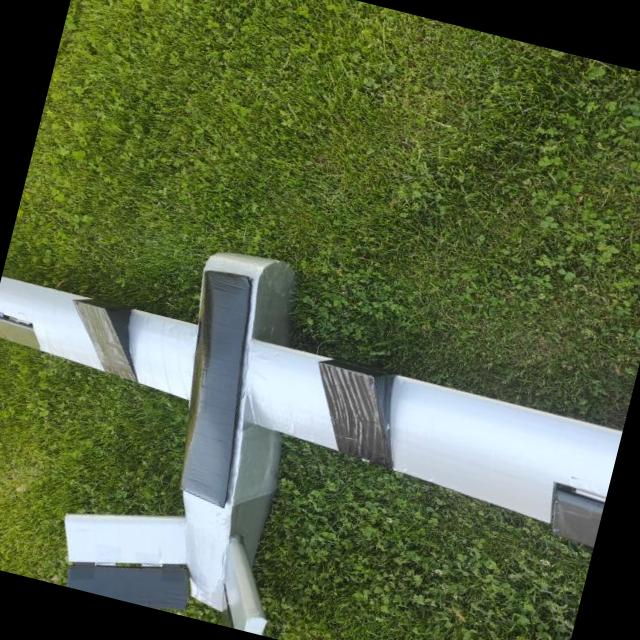UAV: (0, 129, 620, 640)
